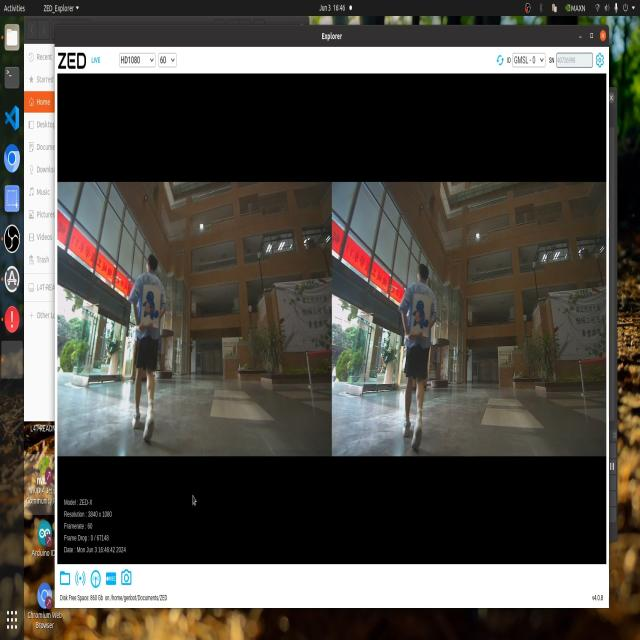blue: (406, 295, 426, 339), (142, 284, 157, 324)
